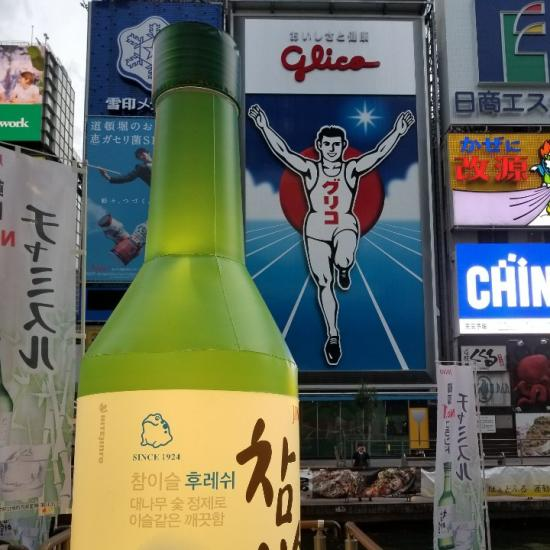soju: (71, 21, 311, 550)
